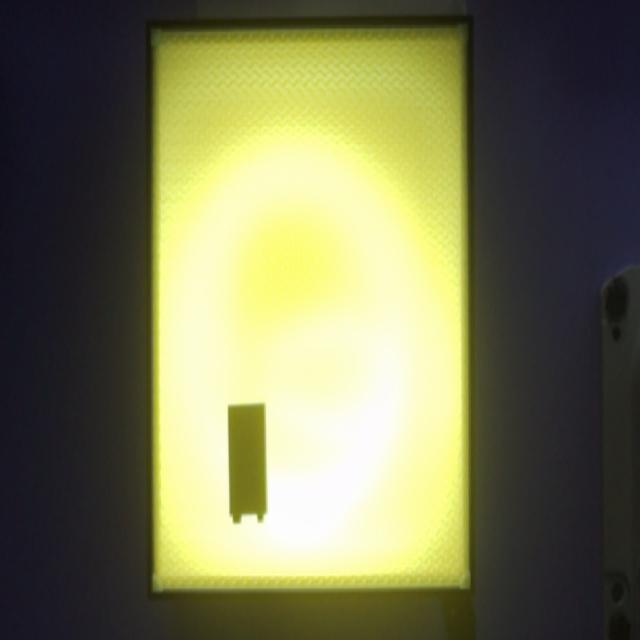bateria: (229, 403, 268, 523)
mesa: (146, 16, 476, 600)
